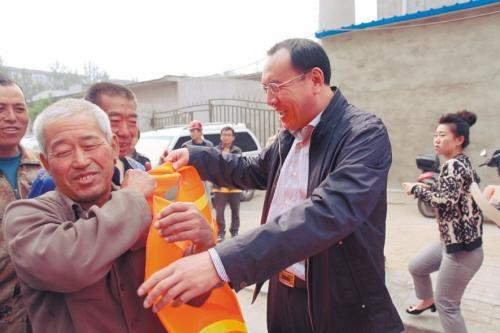none: (34, 98, 119, 204), (258, 36, 334, 131), (85, 80, 141, 158), (1, 78, 31, 156), (431, 109, 477, 158), (219, 124, 235, 146)
red: (188, 119, 204, 141)
